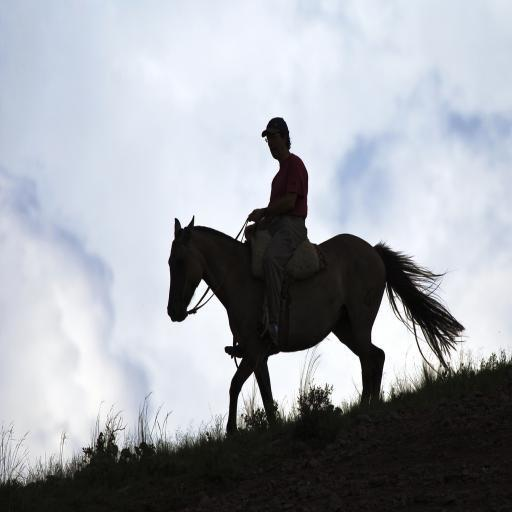horse: (166, 217, 464, 438)
